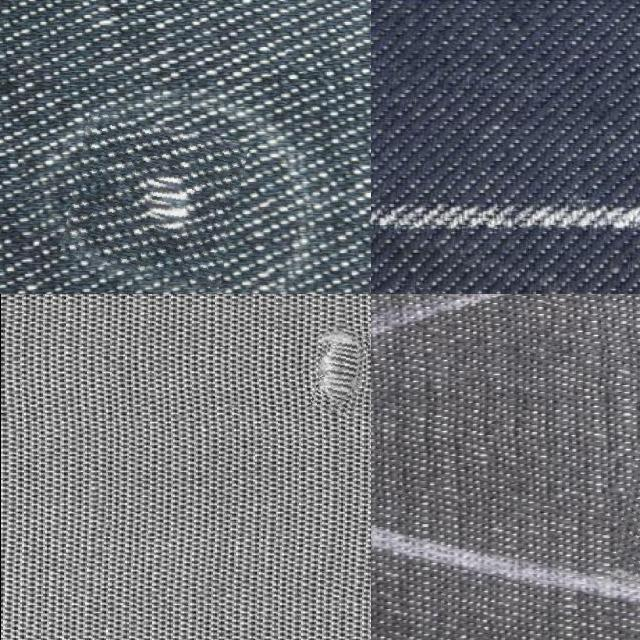Thread_other: (66, 119, 242, 281)
seam: (313, 328, 365, 414)
